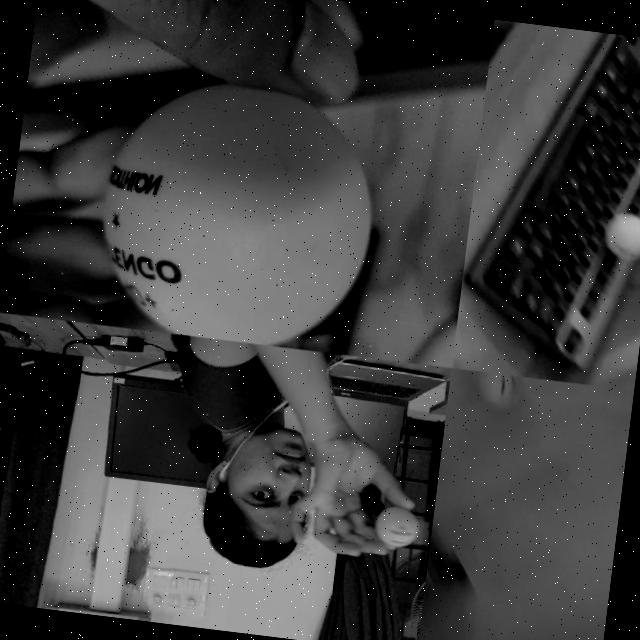ping-pong-ball: (90, 67, 386, 356), (373, 505, 419, 548), (469, 371, 521, 409), (604, 208, 640, 260)
